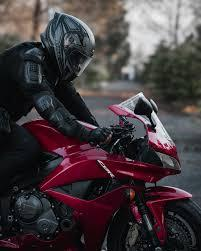Helmet: (41, 12, 94, 82)
